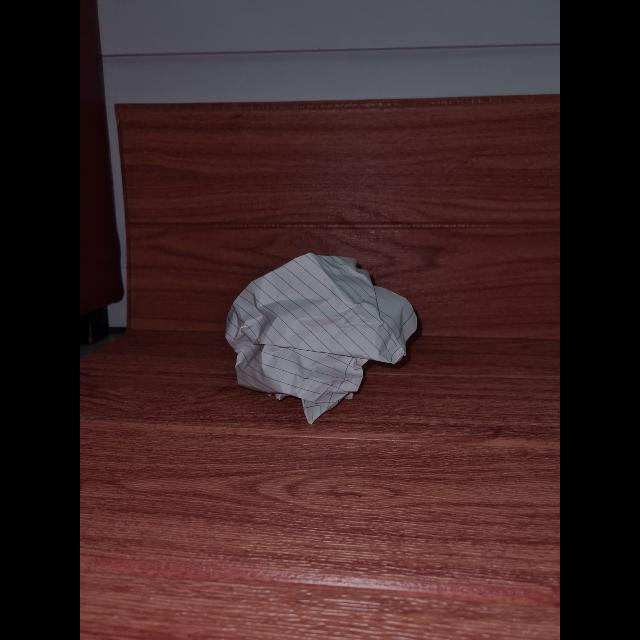scrap_paper: (220, 250, 424, 408)
